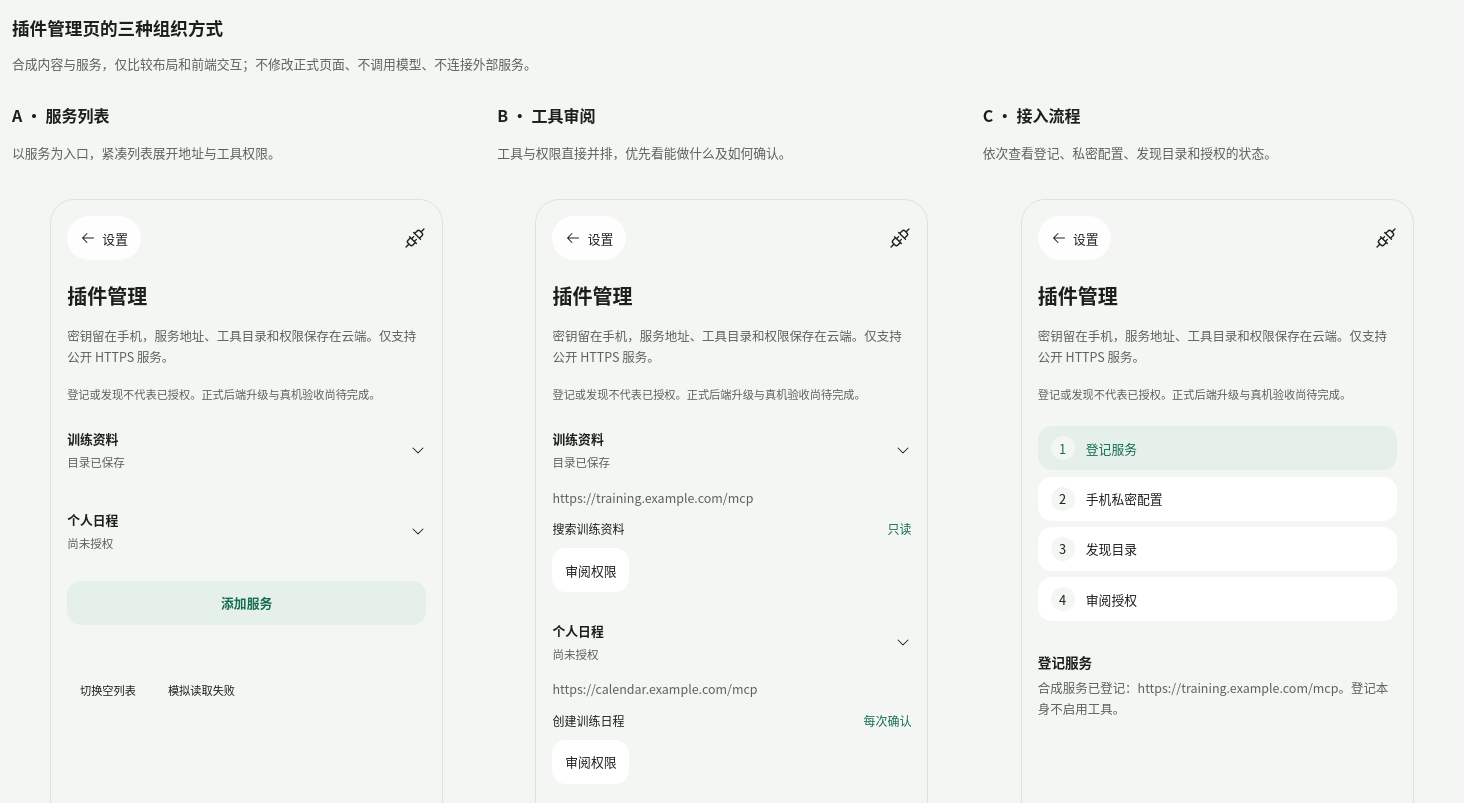
Test: 插件三案显示权限边界，支持合成空态与错误恢复
What coordinates should you click on to do the following:
click the button "训练资料 目录已保存" below "以服务为入口，紧凑列表展开地址与工具权限。"
I would click on:
 (93, 439)
Its box is left=67, top=420, right=426, bottom=481.
(page scrolled)
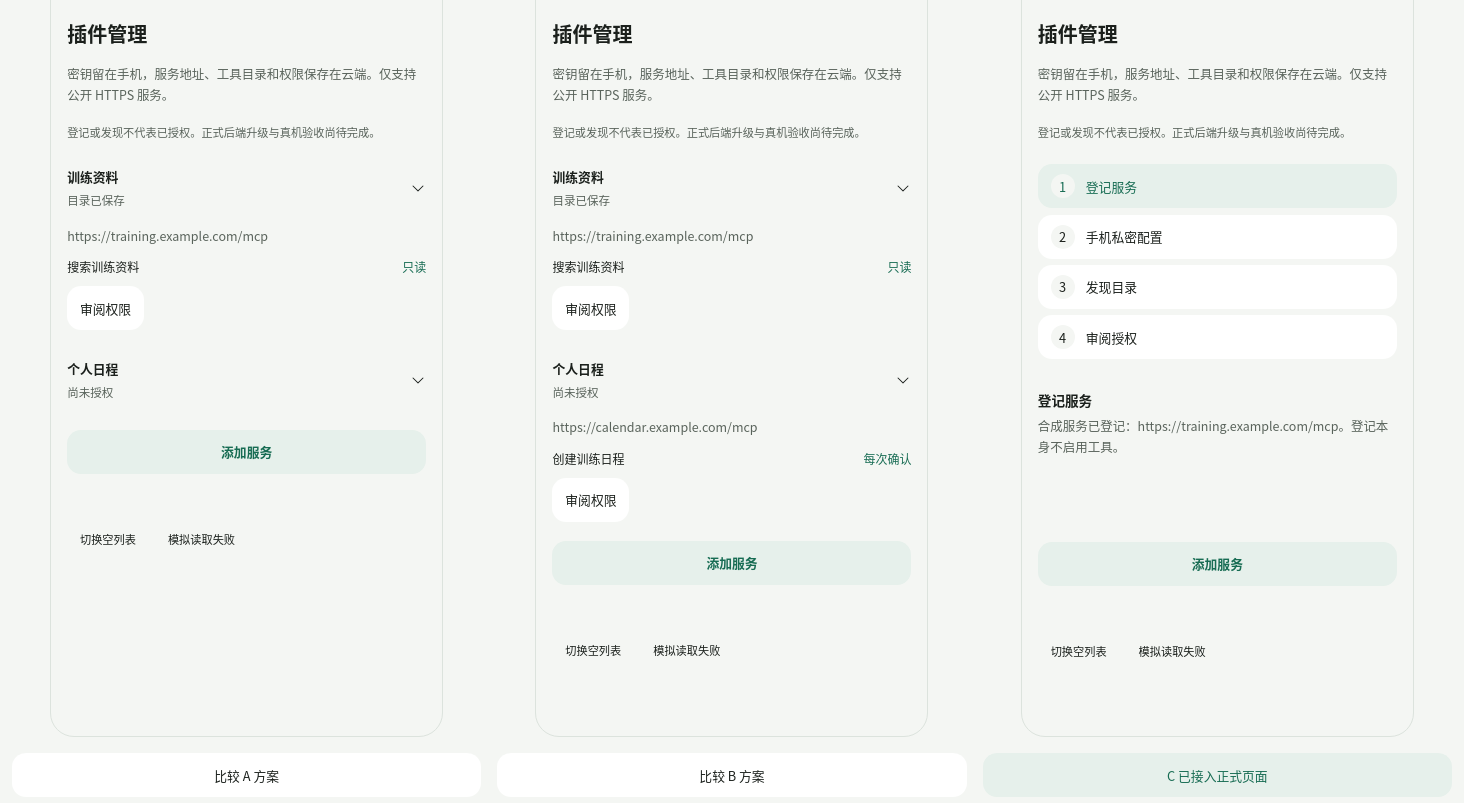
expect the text "每次确认" is shown: met, box left=864, top=450, right=912, bottom=466
expect the 1st text "搜索训练资料" is shown: met, box left=67, top=258, right=139, bottom=275
What coordinates should you click on to do the following:
click the button "切换空列表" below "创建训练日程"
I would click on:
 (593, 650)
Its box is left=552, top=628, right=634, bottom=672.
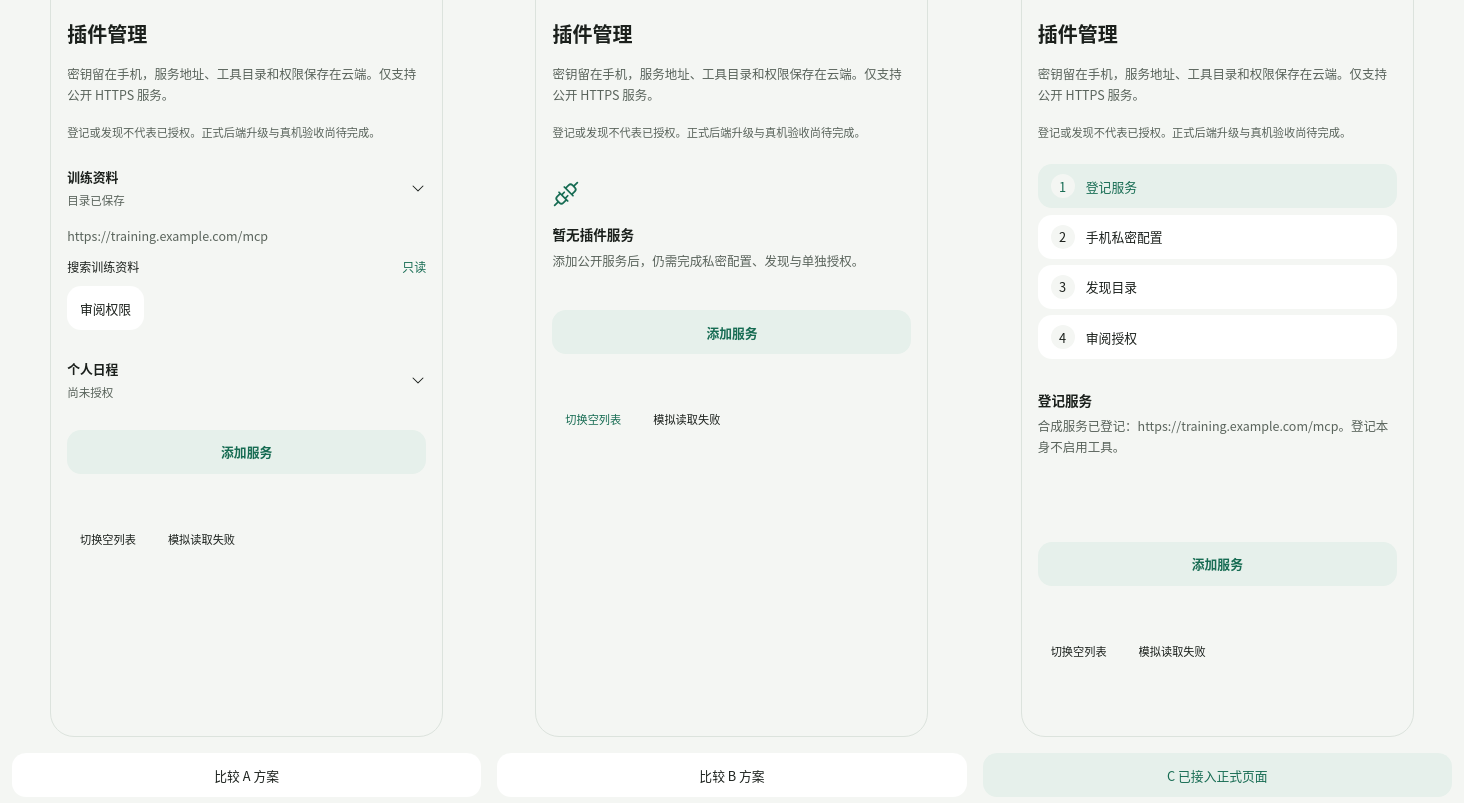
expect the heading "暂无插件服务" is shown: met, box left=552, top=224, right=634, bottom=244
What coordinates should you click on to do the following:
click the button "模拟读取失败" below "添加公开服务后，仍需完成私密配置、发现与单独授权。"
I would click on:
 (687, 420)
Its box is left=640, top=398, right=733, bottom=442.
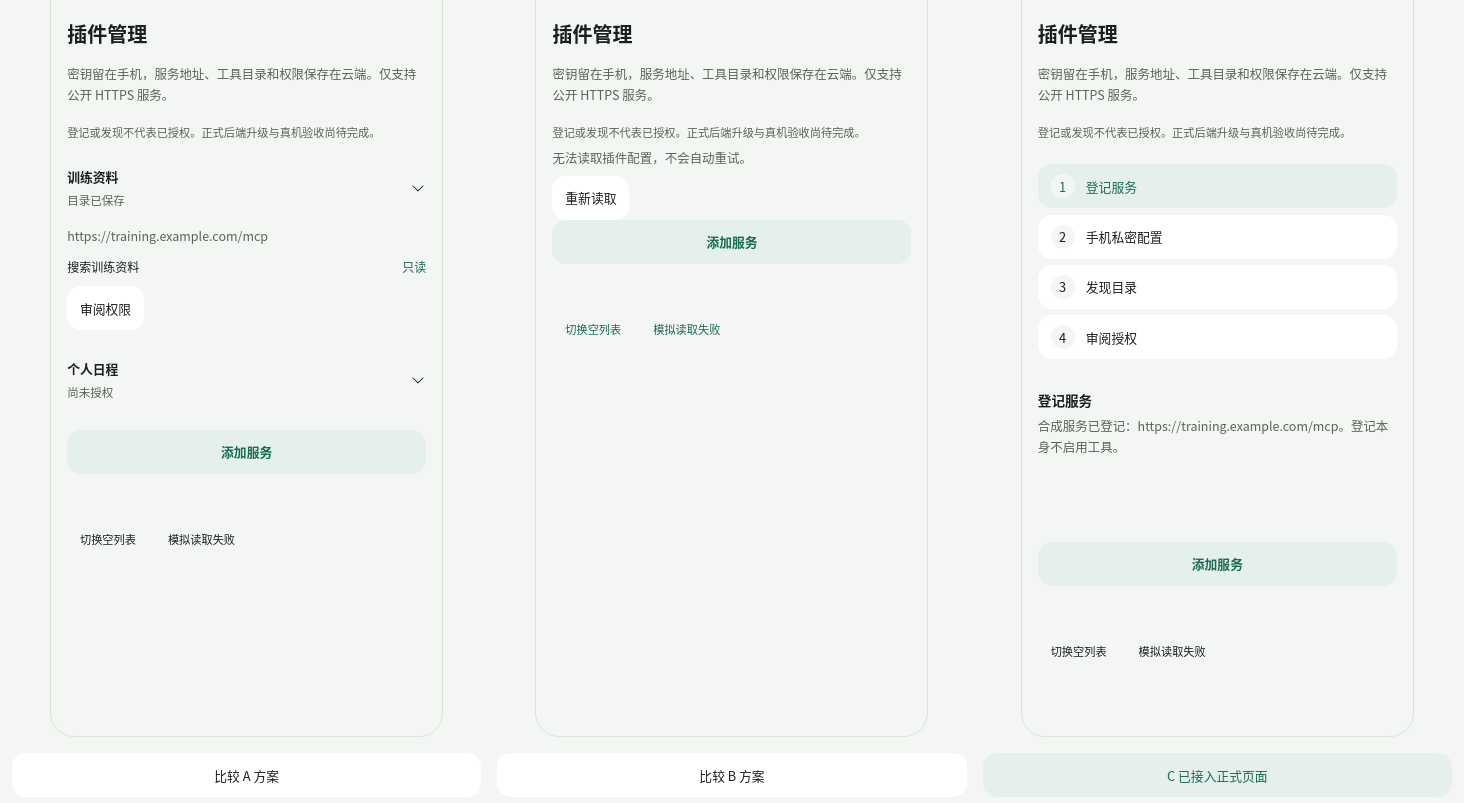
expect the message "无法读取插件配置，不会自动重试。 重新读取" is shown: met, box left=552, top=149, right=752, bottom=220
What coordinates should you click on to do the following:
click the button "重新读取"
I would click on:
 (591, 198)
Its box is left=552, top=176, right=629, bottom=220.
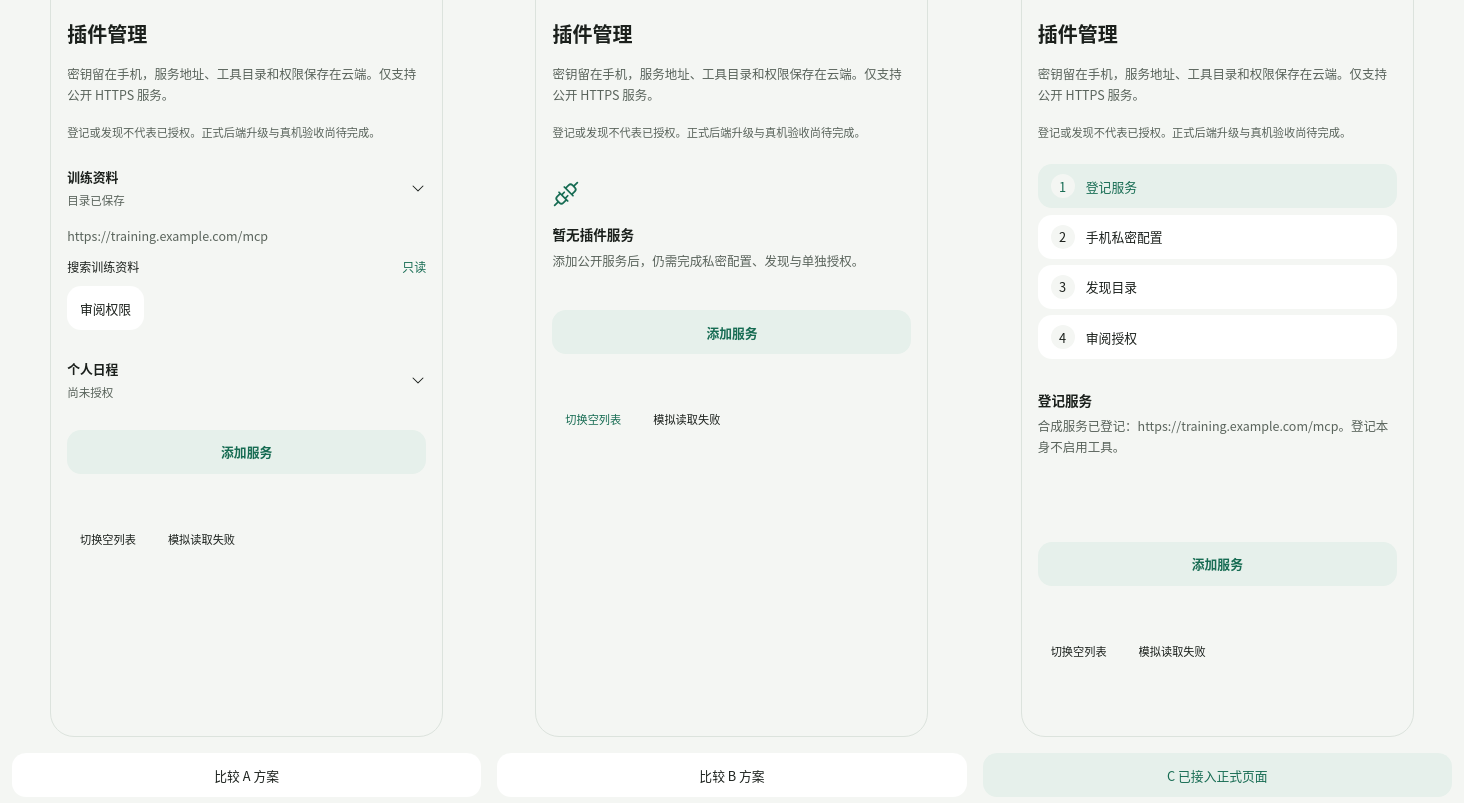
What coordinates should you click on to do the following:
click the button "2 手机私密配置"
I would click on:
 (1124, 236)
Its box is left=1038, top=214, right=1397, bottom=258.
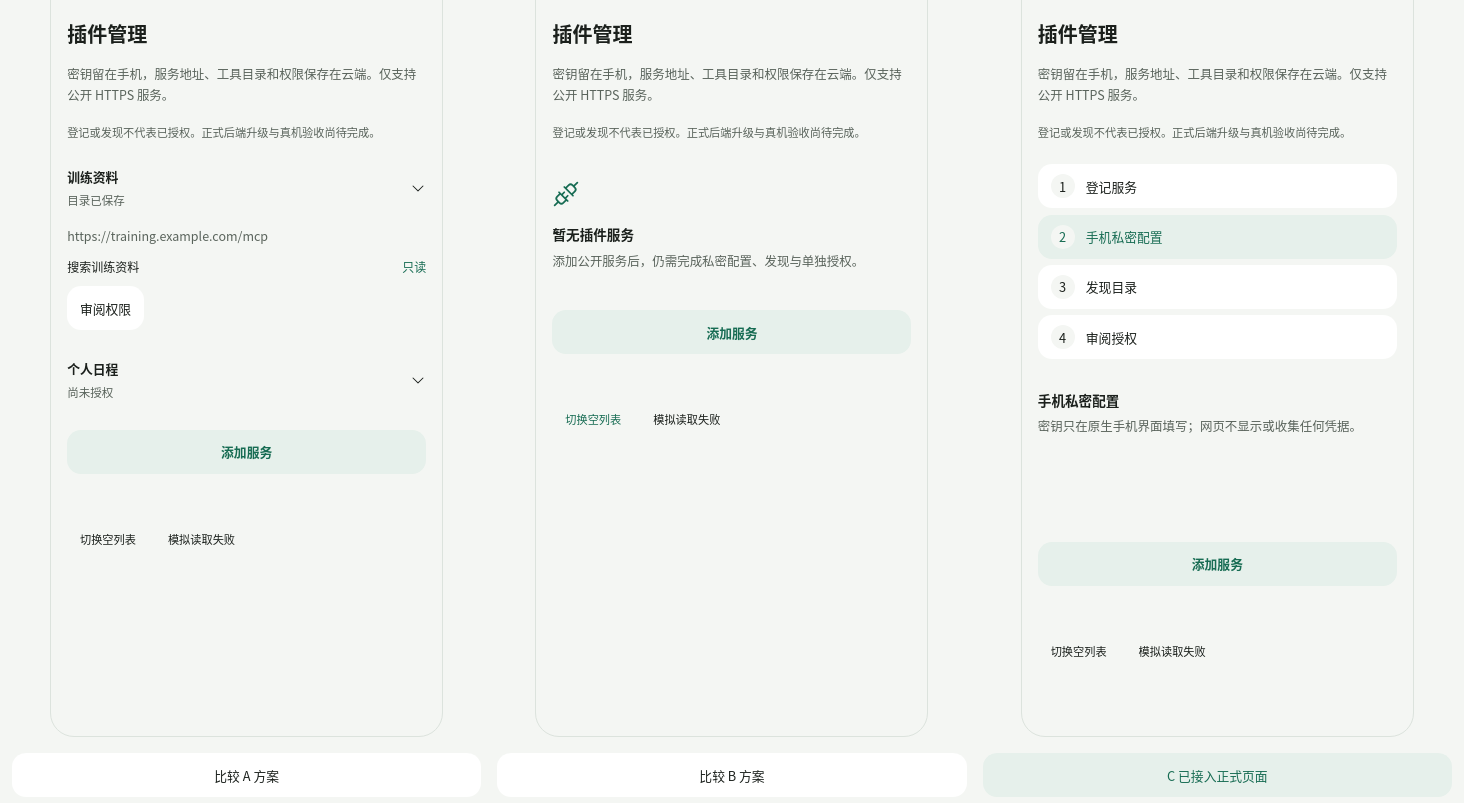
expect the text "密钥只在原生手机界面填写；网页不显示或收集任何凭据。" is shown: met, box left=1038, top=416, right=1397, bottom=437
